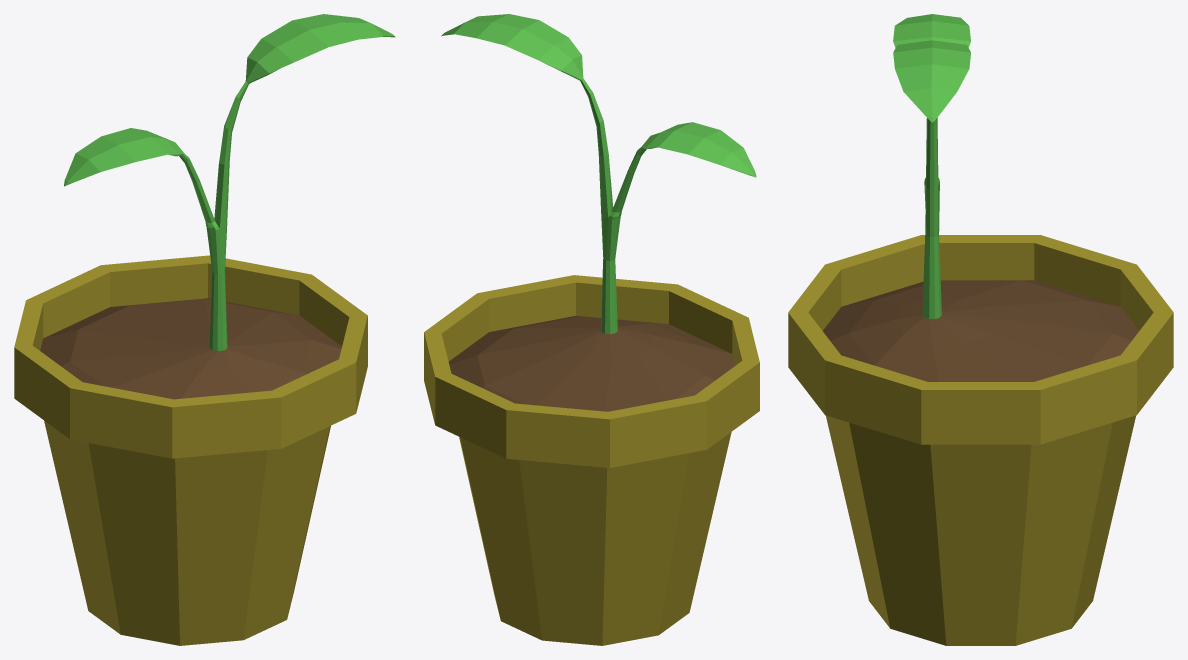
File: flower_pot.fbx
The picture shows the model from 3 angles, left to right: view 1: azimuth 30°, elevation 25°; view 2: azimuth 150°, elevation 25°; view 3: azimuth 270°, elevation 25°; orthographic projection. The views are drawn at different scales.
Visible parts, largest first — view 1: flower-pot; view 2: flower-pot; view 3: flower-pot.
Boxes of the visible parts, x1,y1,x2,y2 form: flower-pot: (14, 14, 395, 645); flower-pot: (424, 14, 759, 645); flower-pot: (788, 14, 1173, 645).
Bounding box in the file's own units: 0.3983 × 0.6485 × 0.3758.
